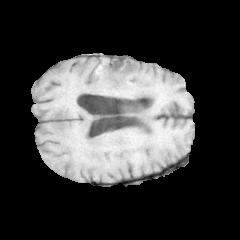glioma: (67, 58, 159, 120)
